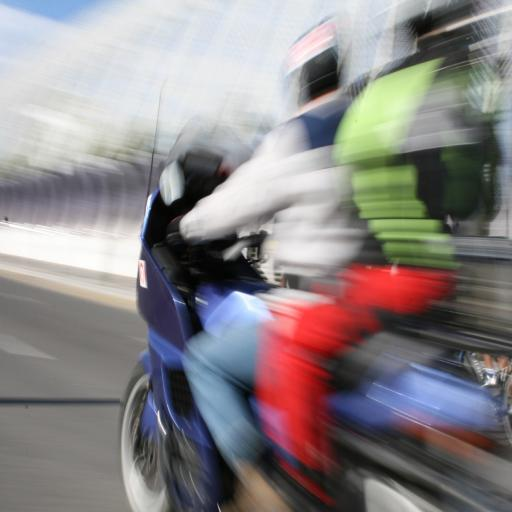helmet: (118, 10, 372, 496)
